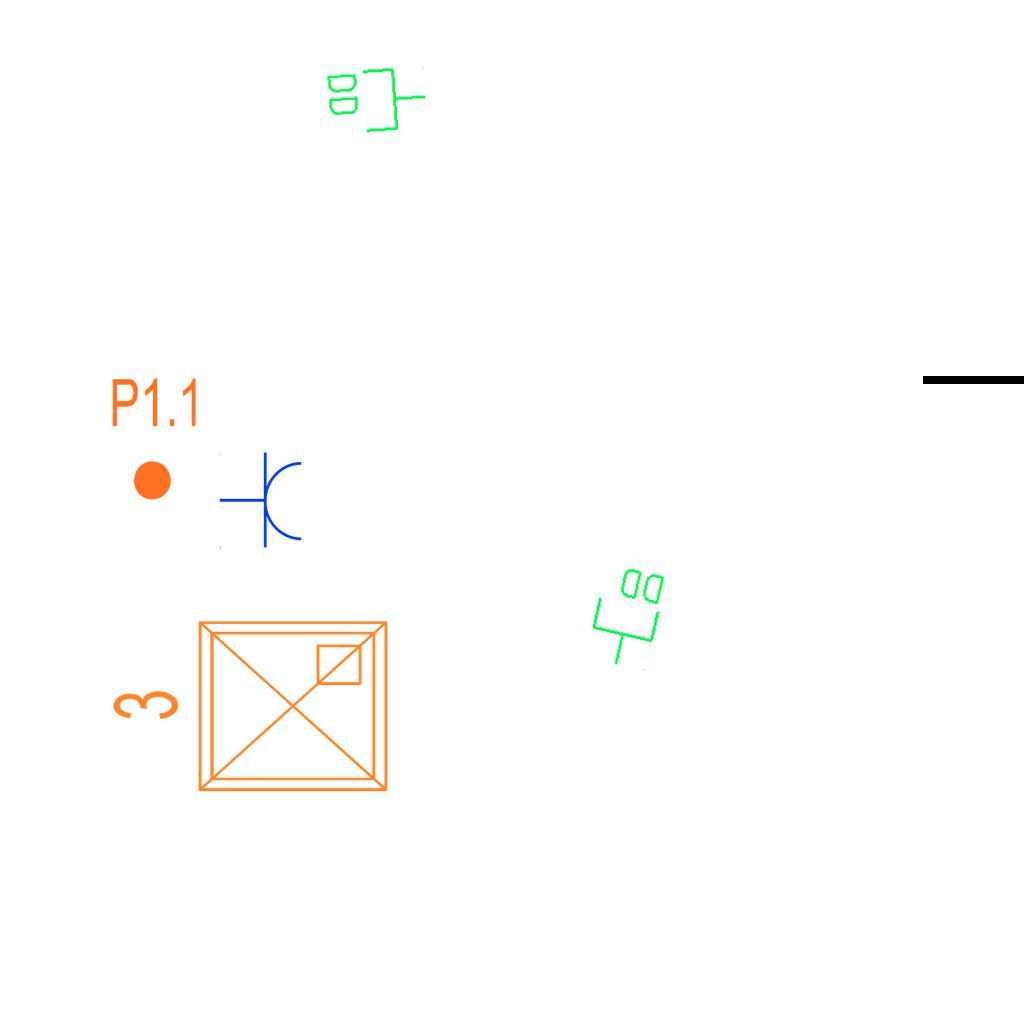Datenanschluss_zweifach: (582, 558, 673, 675), (322, 61, 431, 138)
Downlight_LED_Einbauleuchten_Flur: (109, 375, 202, 503)
Einbaudownlights_LED_Konferenzraeume: (102, 606, 402, 814)
Schukosteckdose_einfach: (219, 451, 306, 551)
